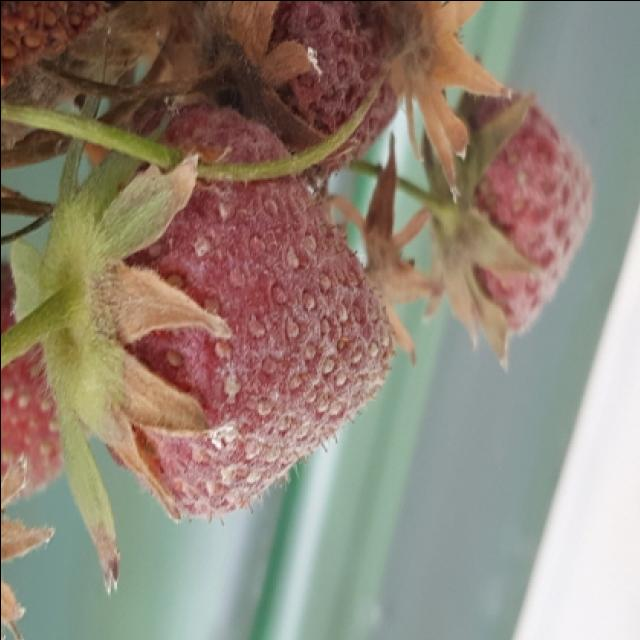Powdery Mildew Fruit: (59, 99, 394, 518), (222, 2, 407, 179)
